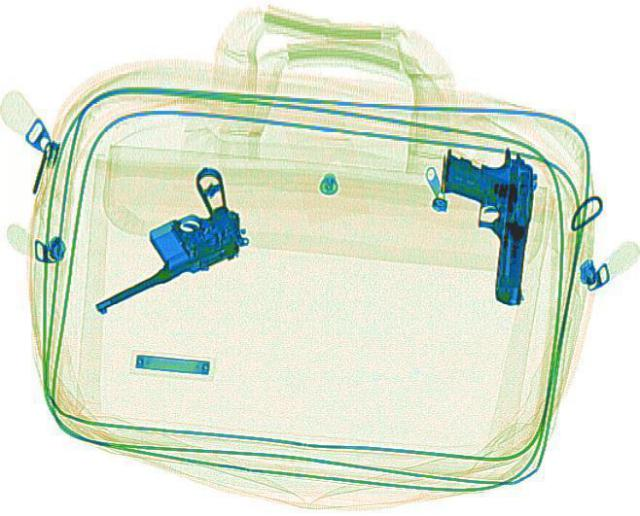Gun: (38, 162, 274, 314), (432, 142, 536, 304)
